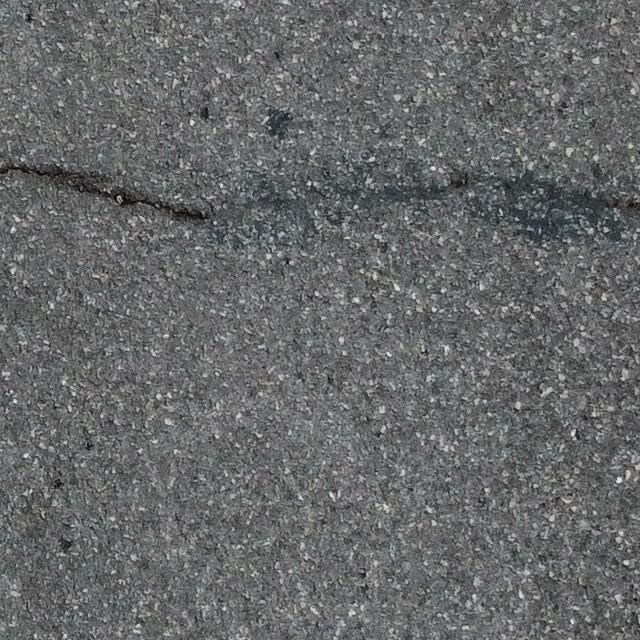TransverseCrack: (1, 162, 214, 222)
